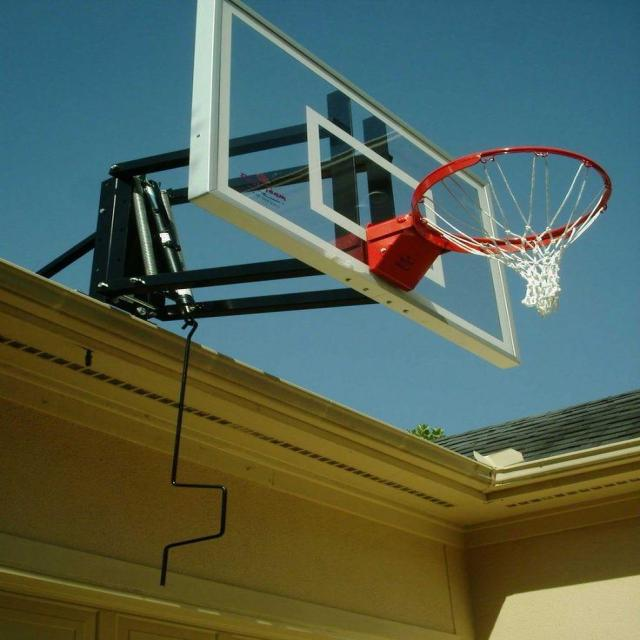hoop: (393, 124, 623, 320)
